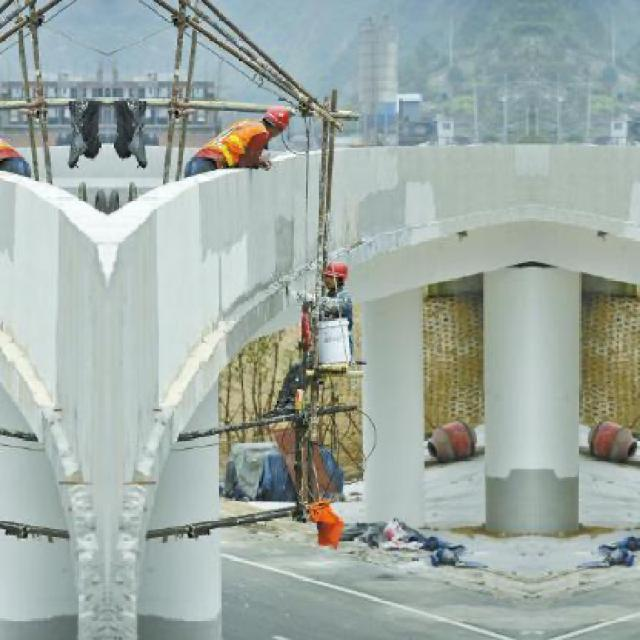con casco: (313, 247, 378, 294), (261, 99, 301, 154)
